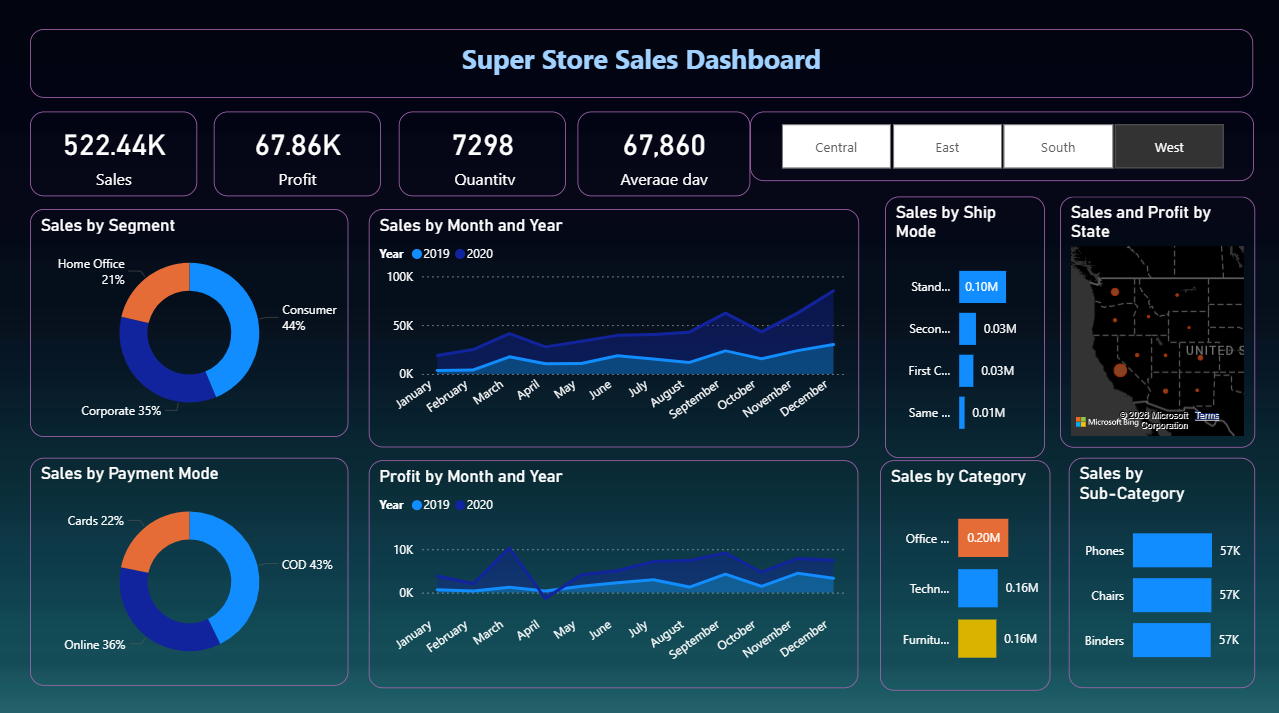

What the dashboard file says about the page in this screenshot:
{"tool":"powerbi","page":{"name":"Page 1","canvas":[1280,720],"ordinal":0},"visuals":[{"type":"clusteredBarChart","title":"Sales by Category","fields":{"Category":["Sheet1 (3).Category"],"Y":["Sum(Sheet1 (3).Sales)"]},"box":[879.6,461.1,170.2,230.5],"z":0},{"type":"clusteredBarChart","title":"Sales by Sub-Category","fields":{"Category":["Sheet1 (3).Sub-Category"],"Y":["Sum(Sheet1 (3).Sales)"]},"box":[1068.8,458.8,186.2,230],"z":1000},{"type":"clusteredBarChart","title":"Sales by Ship Mode","fields":{"Category":["Sheet1 (3).Ship Mode"],"Y":["Sum(Sheet1 (3).Sales)"]},"box":[885,197.5,160,261.2],"z":2000},{"type":"stackedAreaChart","title":"Sales by Month and Year","fields":{"Y":["Sum(Sheet1 (3).Sales)"],"Category":["Sheet1 (3).Order Date.Variation.Date Hierarchy.Month","Sheet1 (3).Order Date.Variation.Date Hierarchy.Day"],"Series":["Sheet1 (3).Order Date.Variation.Date Hierarchy.Year"]},"box":[368.8,210,490,238.8],"z":3000},{"type":"stackedAreaChart","title":"Profit by Month and Year","fields":{"Category":["Sheet1 (3).Order Date.Variation.Date Hierarchy.Month","Sheet1 (3).Order Date.Variation.Date Hierarchy.Day"],"Series":["Sheet1 (3).Order Date.Variation.Date Hierarchy.Year"],"Y":["Sum(Sheet1 (3).Profit)"]},"box":[369.1,461.1,489.9,227.8],"z":4000},{"type":"donutChart","title":"Sales by Segment","fields":{"Category":["Sheet1 (3).Segment"],"Y":["Sum(Sheet1 (3).Sales)"]},"box":[30.2,209.9,318.4,227.8],"z":5000},{"type":"donutChart","title":"Sales by Payment Mode","fields":{"Category":["Sheet1 (3).Payment Mode"],"Y":["Sum(Sheet1 (3).Sales)"]},"box":[30.2,458.3,318.4,227.8],"z":6000},{"type":"slicer","fields":{"Values":["Sheet1 (3).Region"]},"box":[750.6,112.5,503.6,70],"z":7000},{"type":"textbox","box":[30.2,30.2,1223.3,68.8],"z":8000},{"type":"card","fields":{"Values":["Sum(Sheet1 (3).Sales)"]},"box":[30.2,112.5,167.4,85.1],"z":9000},{"type":"card","fields":{"Values":["Sum(Sheet1 (3).Quantity)"]},"box":[399.3,112.5,167.4,85.1],"z":10000},{"type":"card","fields":{"Values":["Sum(Sheet1 (3).Profit)"]},"box":[214.1,112.5,167.4,85.1],"z":11000},{"type":"card","fields":{"Values":["Sum(Sheet1 (3).Profit)"]},"box":[577.7,112.5,172.9,85.1],"z":12000},{"type":"map","title":"Sales and Profit by State","fields":{"Category":["Sheet1 (3).State"],"Size":["Sum(Sheet1 (3).Sales)"]},"box":[1060,197.5,195,251.2],"z":12001}]}

Visuals, with their boxes in screenshot pixels (x1, y1, x2, y2), scaled from the page's 1280x720 canvas onto the 1279x713 screenshot:
"Sales by Category" clusteredBarChart: [879,457,1049,685]
"Sales by Sub-Category" clusteredBarChart: [1068,454,1254,682]
"Sales by Ship Mode" clusteredBarChart: [884,196,1044,454]
"Sales by Month and Year" stackedAreaChart: [369,208,858,444]
"Profit by Month and Year" stackedAreaChart: [369,457,858,682]
"Sales by Segment" donutChart: [30,208,348,433]
"Sales by Payment Mode" donutChart: [30,454,348,679]
slicer - Sheet1 (3).Region: [750,111,1253,181]
textbox: [30,30,1253,98]
card - Sum(Sheet1 (3).Sales): [30,111,197,196]
card - Sum(Sheet1 (3).Quantity): [399,111,566,196]
card - Sum(Sheet1 (3).Profit): [214,111,381,196]
card - Sum(Sheet1 (3).Profit): [577,111,750,196]
"Sales and Profit by State" map: [1059,196,1254,444]
